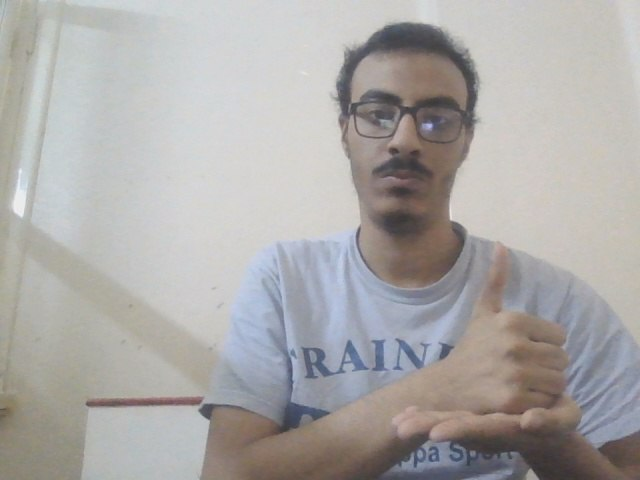Help: (377, 238, 592, 452)
